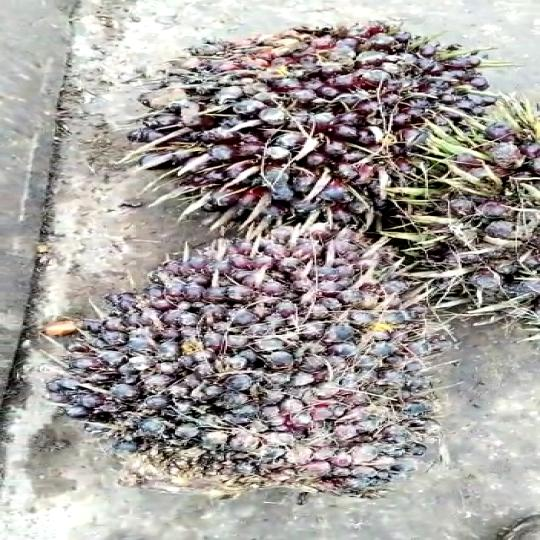kurang masak: (114, 0, 540, 313), (63, 220, 453, 504)
